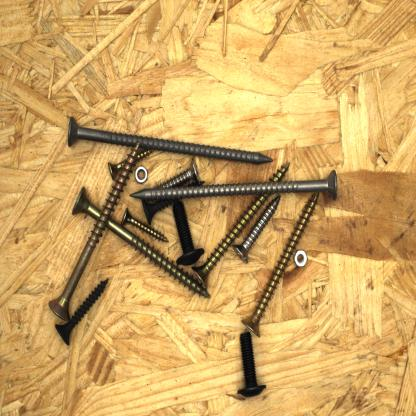screw: (43, 135, 144, 327), (68, 182, 215, 302), (188, 158, 293, 294), (61, 108, 278, 167), (238, 185, 321, 339), (127, 167, 341, 202), (53, 272, 113, 346), (229, 191, 284, 267), (233, 328, 270, 400), (118, 205, 172, 245), (106, 144, 156, 182), (153, 156, 204, 192)
